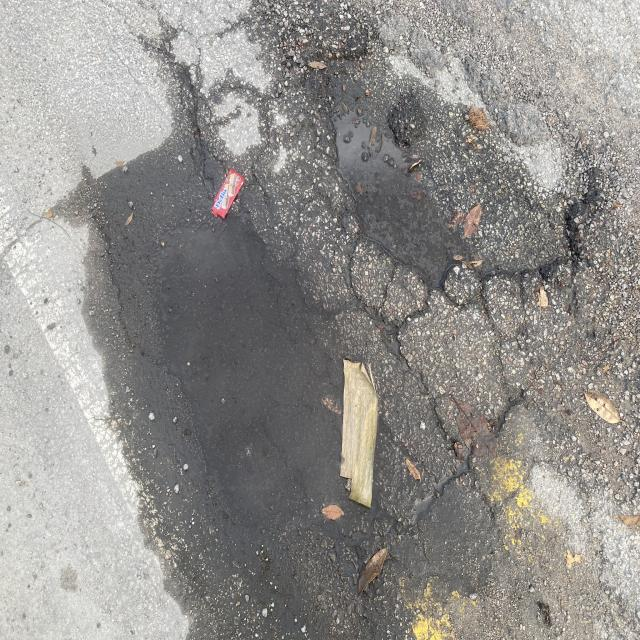Pothole: (274, 21, 640, 325), (337, 343, 524, 554)
